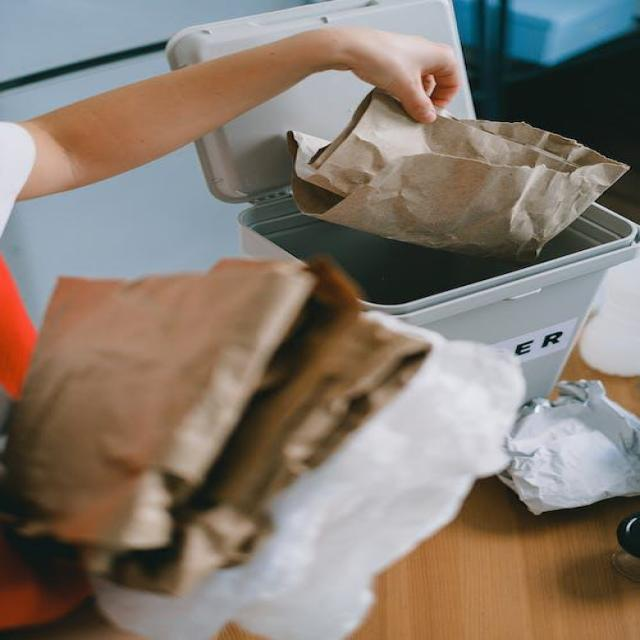paper: (45, 244, 466, 619), (284, 82, 616, 264), (495, 375, 640, 516)
